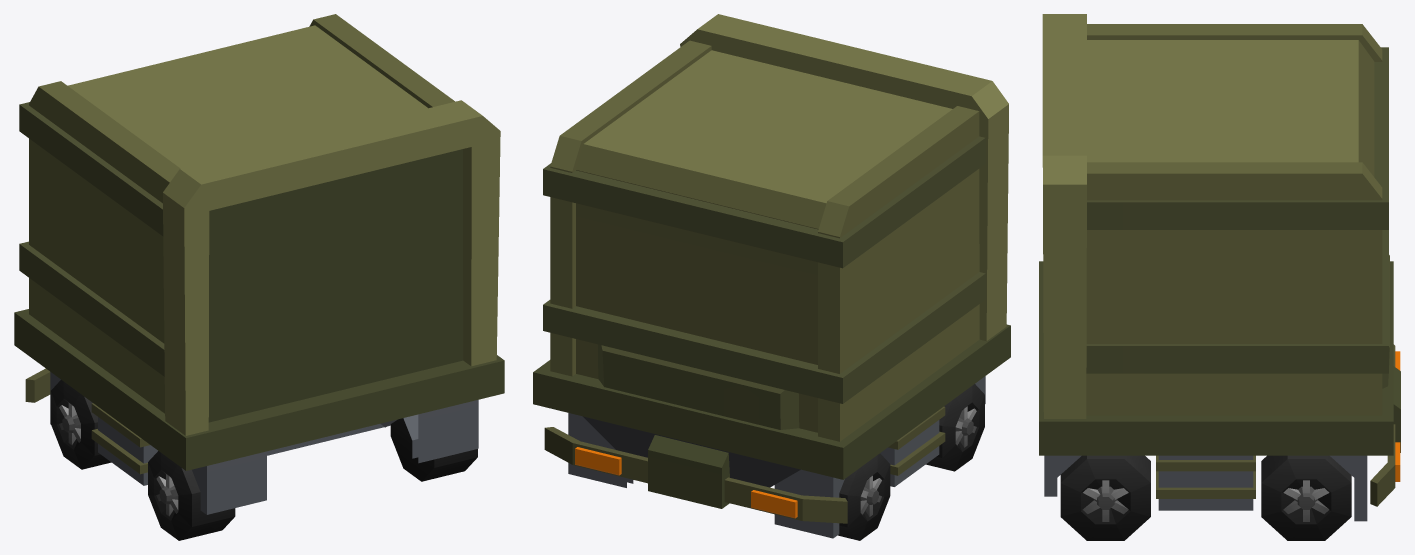
Rendered from cargo_01_E_1.fbx.
The picture shows the model from 3 angles, left to right: view 1: azimuth 30°, elevation 25°; view 2: azimuth 150°, elevation 25°; view 3: azimuth 270°, elevation 25°; orthographic projection. The views are drawn at different scales.
Visible parts, largest first — view 1: cargo_01_E_1; view 2: cargo_01_E_1; view 3: cargo_01_E_1.
Boxes of the visible parts, x1=… form: cargo_01_E_1: x1=14, y1=14, x2=504, y2=540; cargo_01_E_1: x1=533, y1=14, x2=1010, y2=540; cargo_01_E_1: x1=1039, y1=14, x2=1400, y2=540.
Size of the model in its own units: 1395 by 1556 by 1331.
